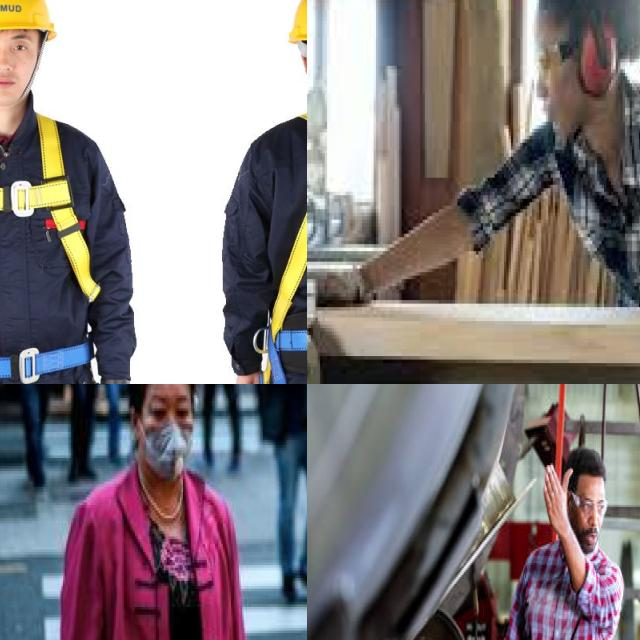Ear-protection: (574, 7, 618, 98)
Harness: (0, 113, 101, 384)
No_Ear-Protection: (566, 490, 574, 514)
No_Glasses: (0, 34, 31, 58)
face_mask: (142, 385, 192, 481)
face_nomask: (567, 495, 602, 554)
glasses: (534, 20, 574, 73), (571, 492, 607, 517)
hand_glove: (312, 262, 367, 310)
hand_noglove: (544, 466, 572, 535)
head_nohelmet: (565, 447, 605, 492)
person: (346, 0, 640, 384), (64, 384, 263, 640), (253, 384, 307, 612), (0, 384, 79, 486), (56, 384, 120, 481)
shoes: (296, 558, 307, 605)
